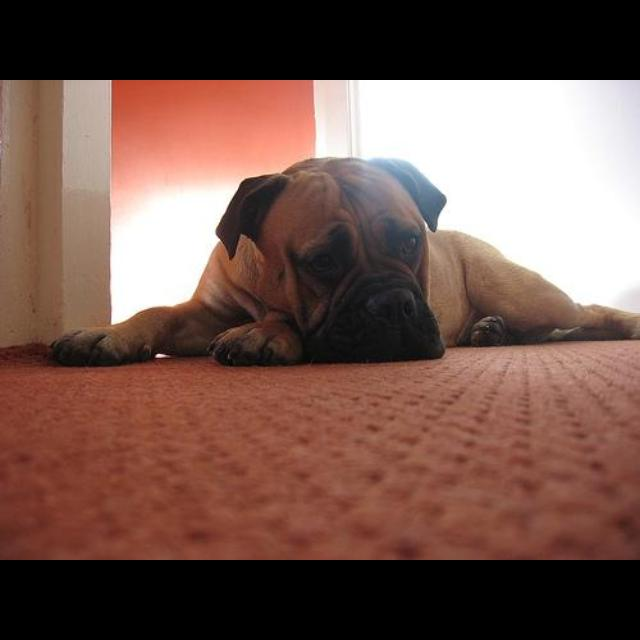bullmastiff: (49, 155, 640, 367)
